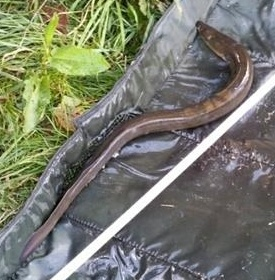Anguilla anguilla: (20, 20, 255, 260)
